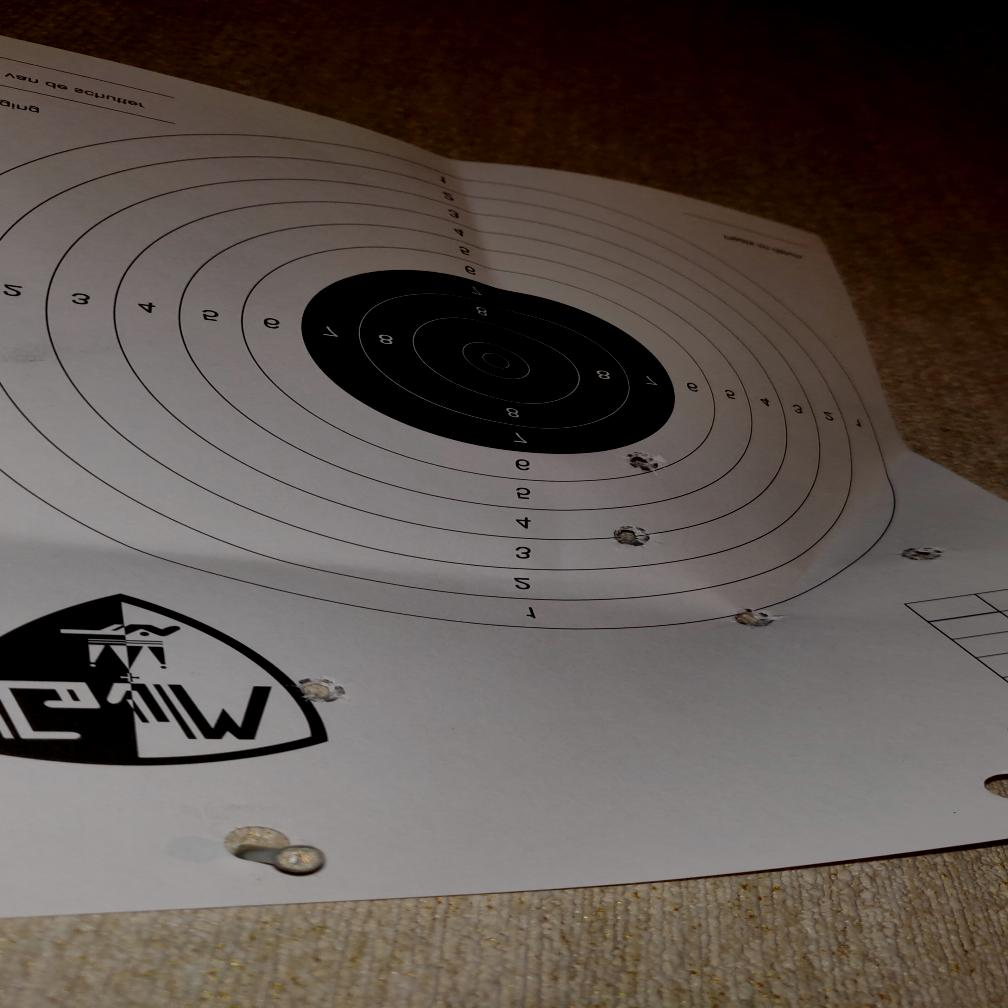0: (299, 676, 344, 706), (898, 544, 948, 562)
1: (736, 607, 782, 630)
4: (614, 525, 656, 547)
6: (624, 450, 668, 473)
Target: (0, 132, 901, 632)
black_contour: (301, 270, 674, 456)
